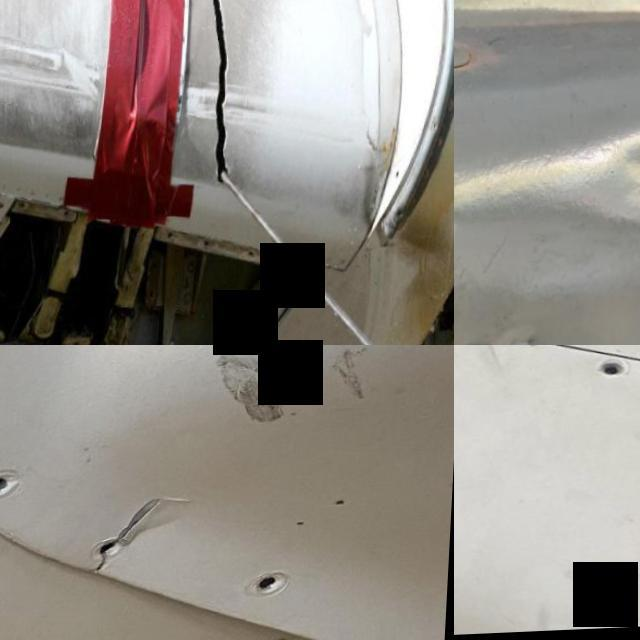Crack: (162, 0, 261, 201), (74, 492, 192, 594)
Dent: (577, 119, 640, 251)
Missing_Fastener: (594, 356, 640, 389), (249, 577, 296, 603), (94, 536, 132, 564), (0, 471, 24, 504)
